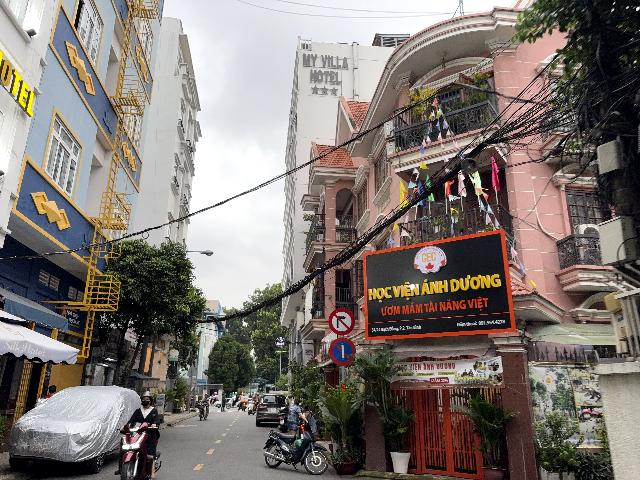cam-do-xe-ngay-le: (329, 337, 356, 366)
cam-re-phai: (328, 308, 355, 335)
